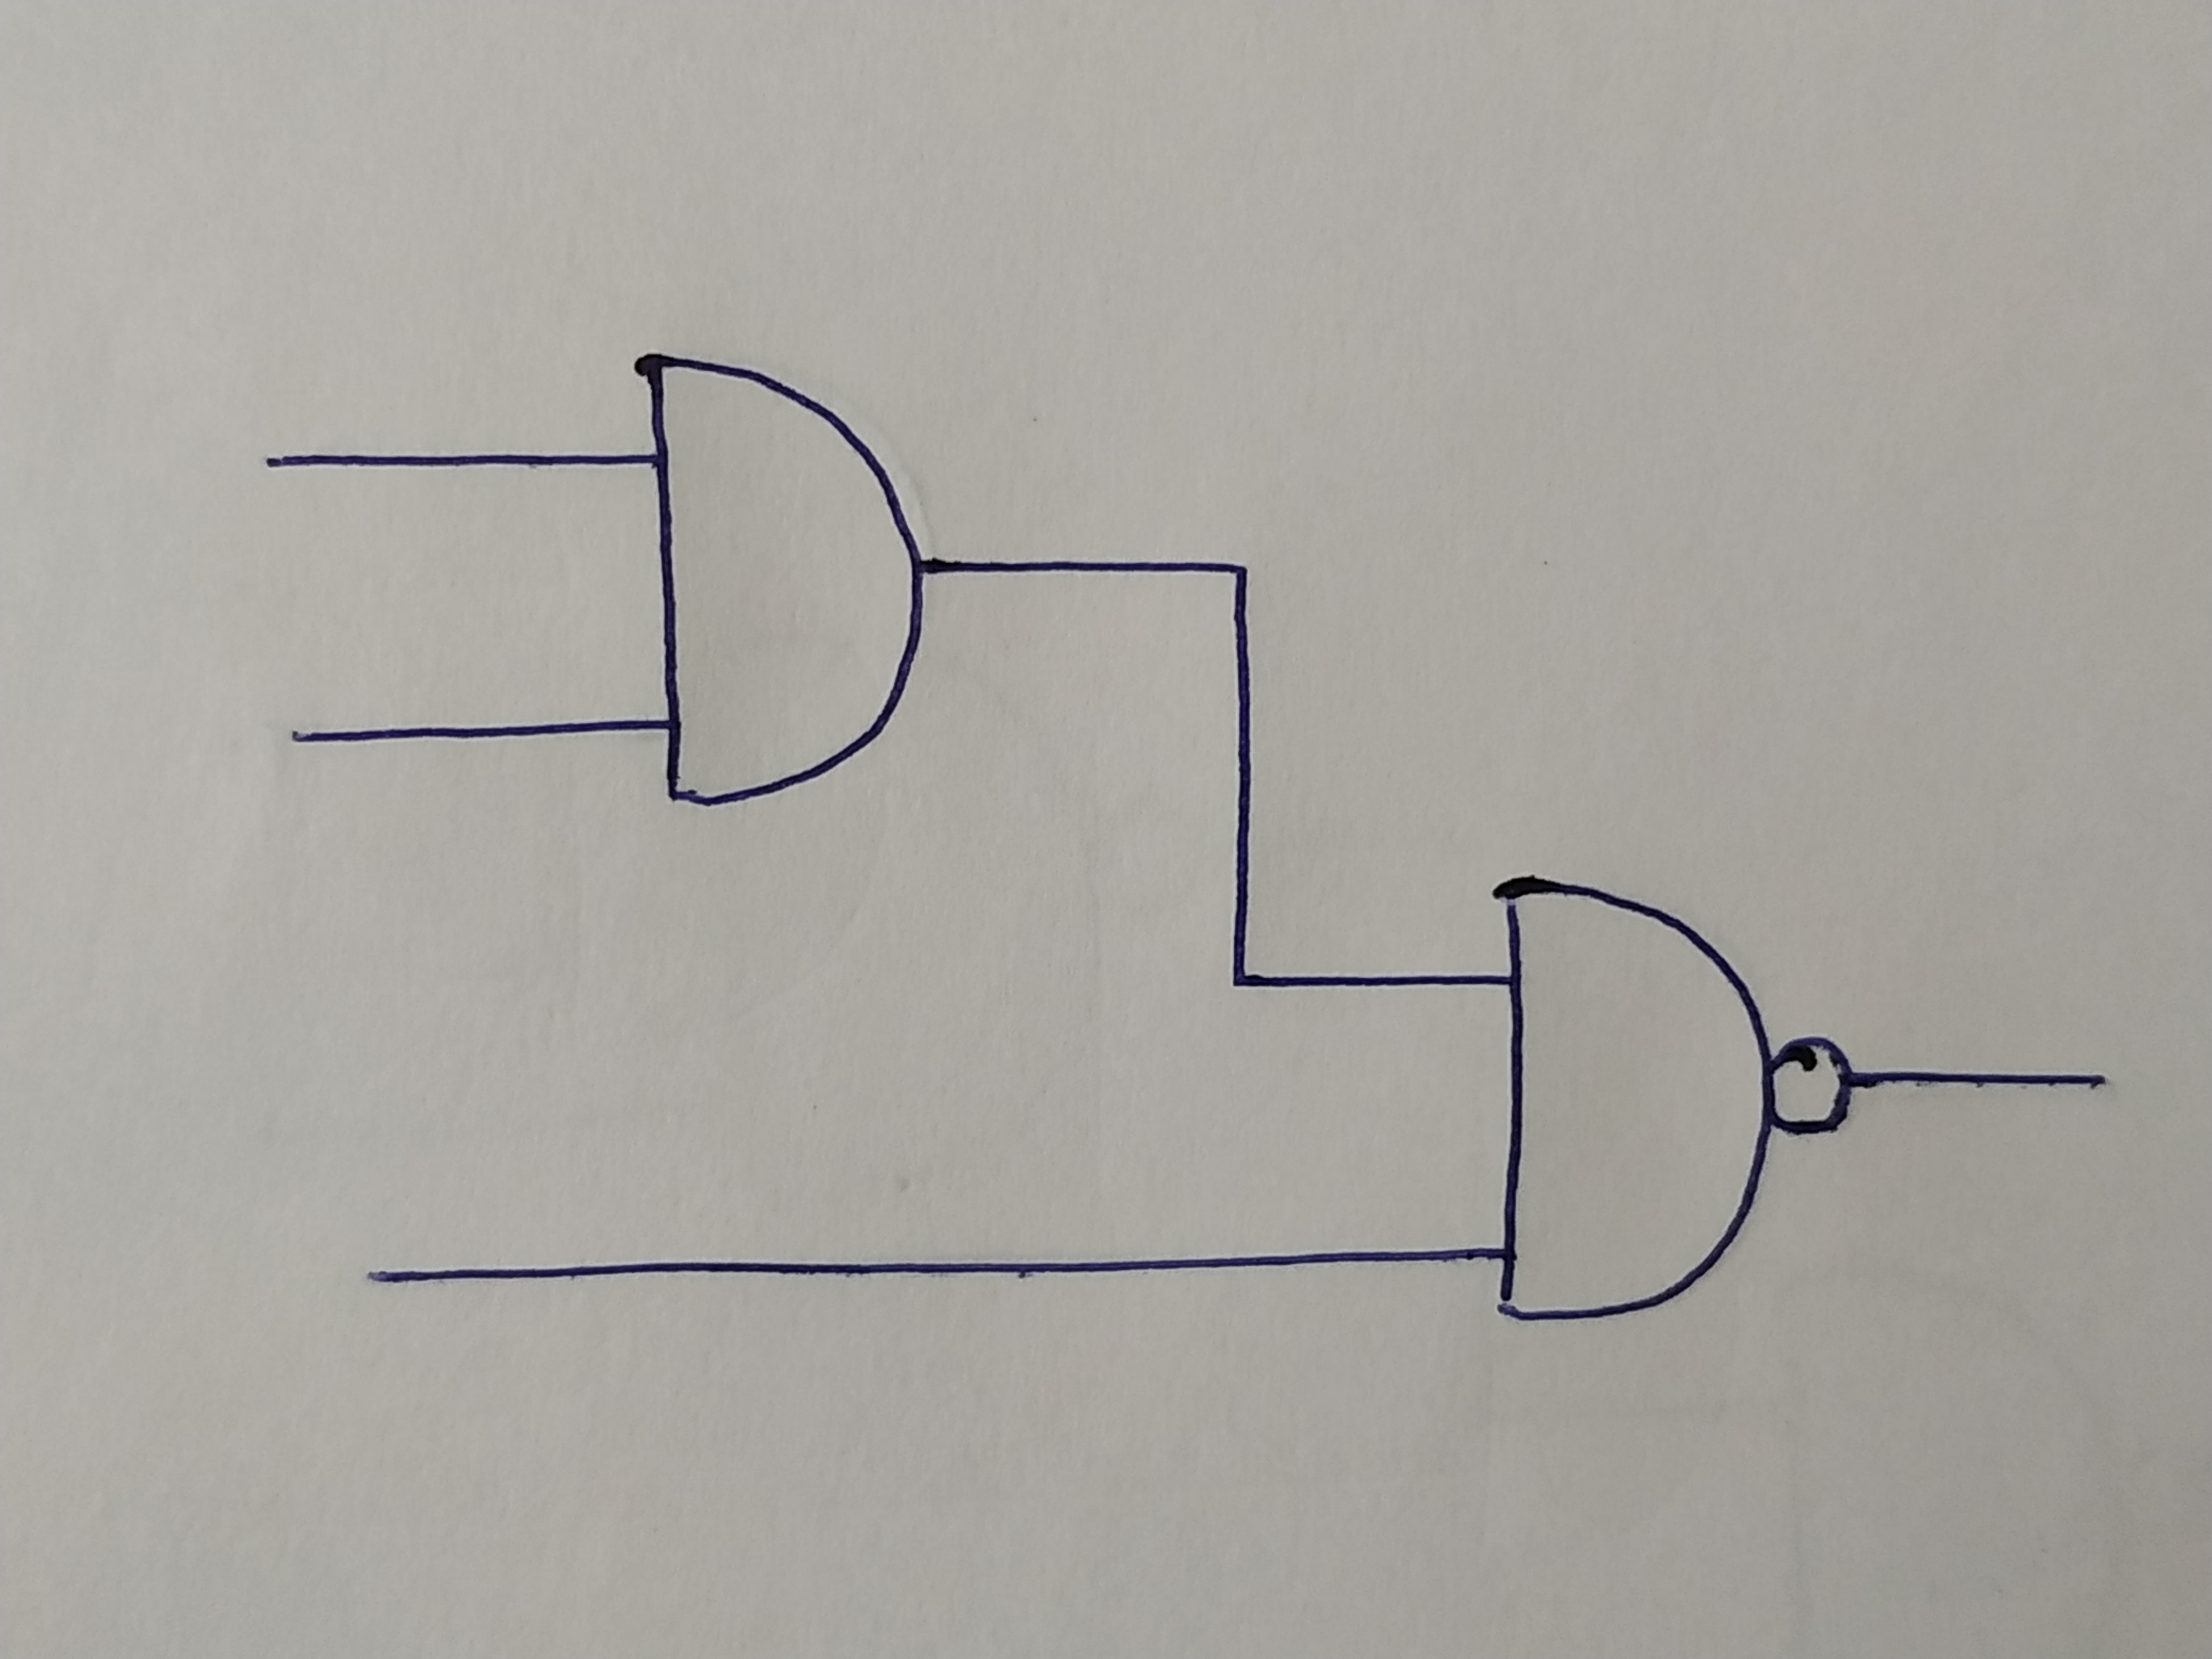and: (639, 352, 927, 800), (1489, 871, 1759, 1319)
not: (1771, 1035, 1853, 1129)
